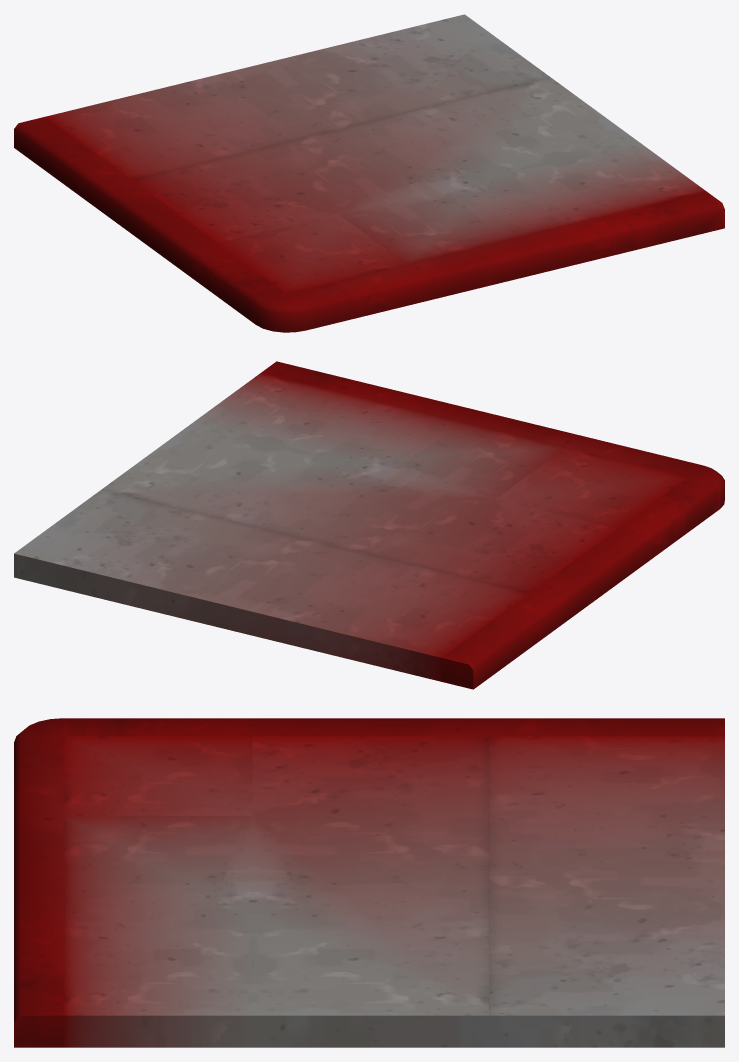
The model's file is Sidewalk_Corner_Flat_3m.glb.
The picture shows the model from 3 angles, top to bottom: view 1: azimuth 30°, elevation 25°; view 2: azimuth 150°, elevation 25°; view 3: azimuth 270°, elevation 25°; orthographic projection. The views are drawn at different scales.
Parts seen in each view (by area): view 1: Sidewalk_Corner_Flat_3m; view 2: Sidewalk_Corner_Flat_3m; view 3: Sidewalk_Corner_Flat_3m.
Boxes of the visible parts, x1=… form: Sidewalk_Corner_Flat_3m: x1=14, y1=14, x2=724, y2=332; Sidewalk_Corner_Flat_3m: x1=14, y1=361, x2=724, y2=689; Sidewalk_Corner_Flat_3m: x1=14, y1=718, x2=724, y2=1047.
Bounding box in the file's own units: 3.01 × 0.1499 × 3.01.
1 material, 1 textured.
